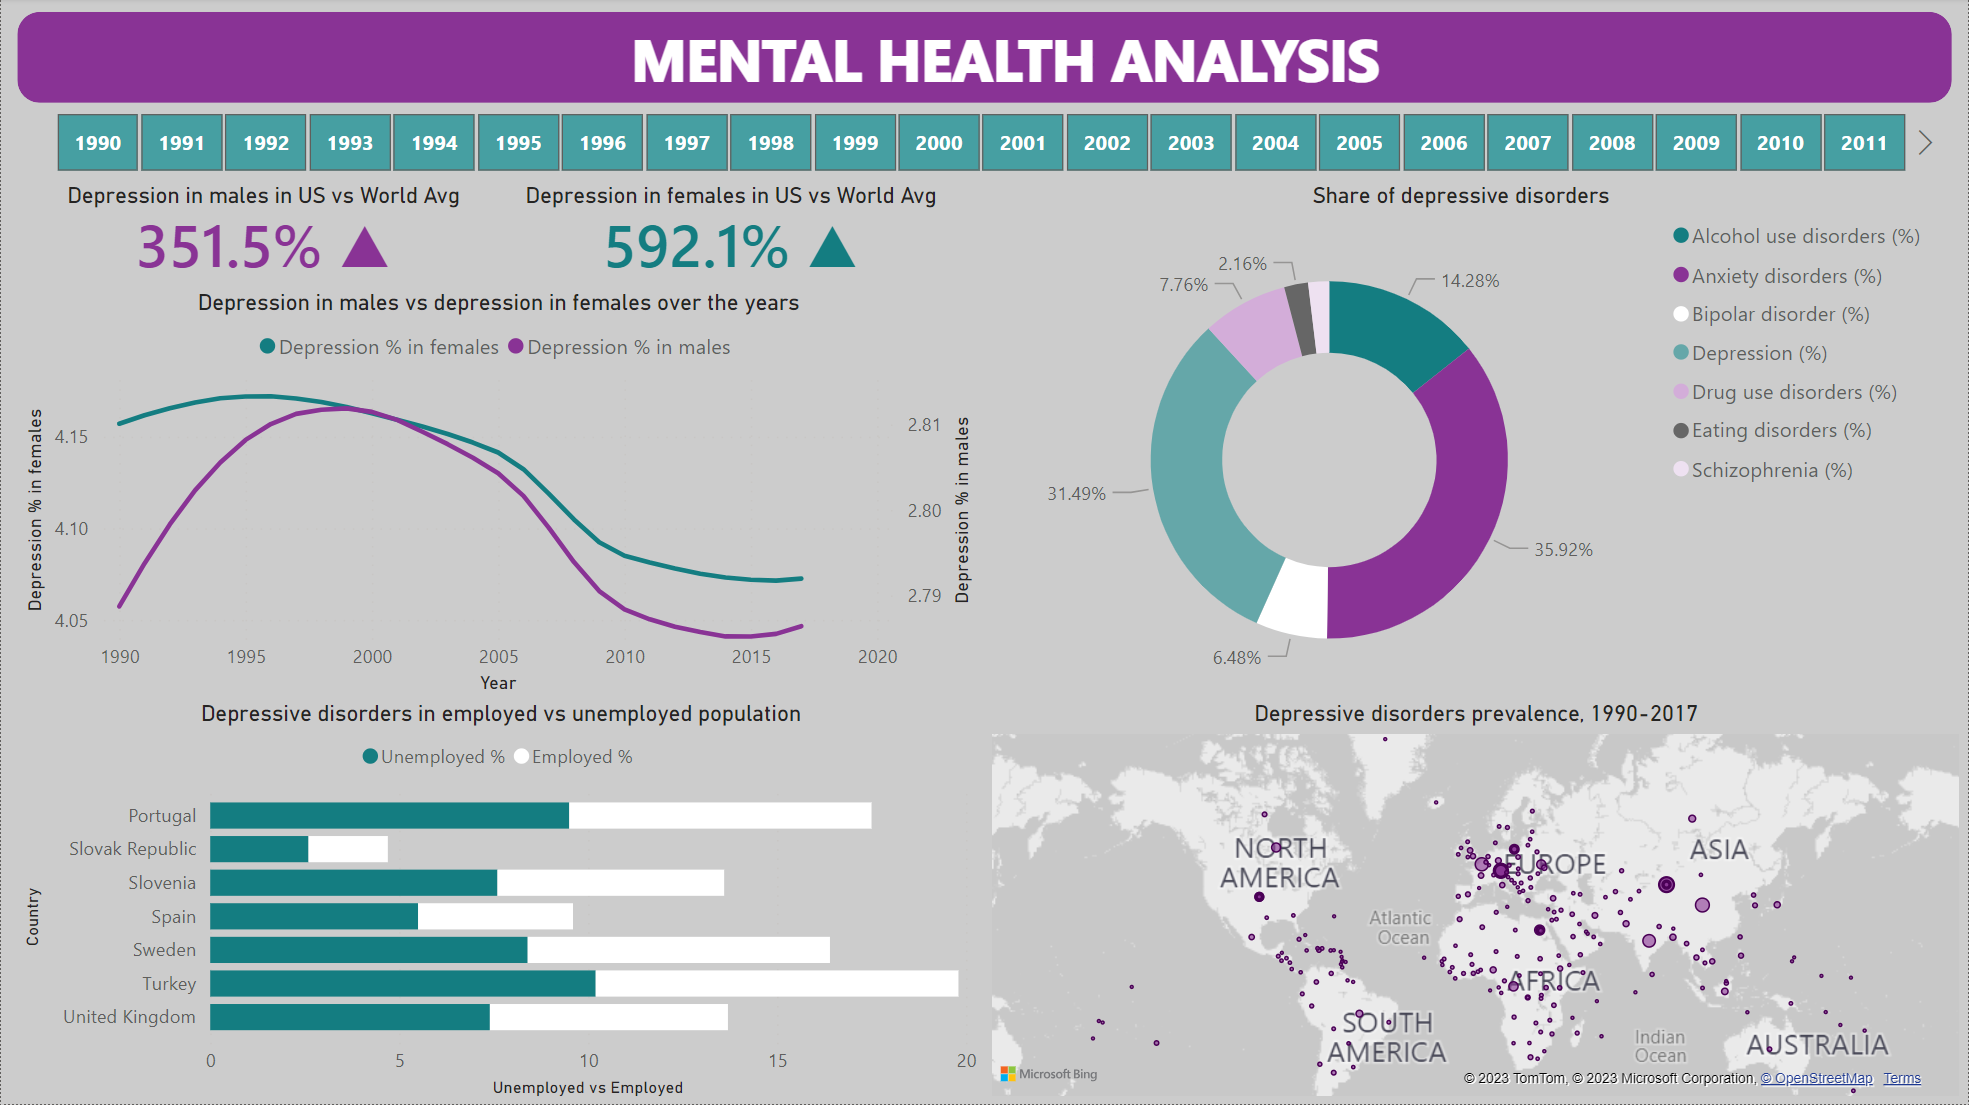

Layout of this report page (visuals, bound fields, positions):
{"tool":"powerbi","page":{"name":"Page 1","canvas":[1280,720],"ordinal":0},"visuals":[{"type":"lineChart","title":"Depression Rate in Males vs Depression Rate in Females, 1990-2017","fields":{"Category":["prevalence-of-depression-males-.Year"],"Y":["Avg(prevalence-of-depression-males-.Prevalence in females (%))"],"Y2":["Avg(prevalence-of-depression-males-.Prevalence in males (%))"]},"box":[10.6,189.6,626.4,267.7],"z":0},{"type":"barChart","title":"Depressive Disorders in Employed vs. Unemployed Populations","fields":{"Category":["depression-by-level-of-educatio.Entity"],"Y":["Sum(depression-by-level-of-educatio.All levels (active) (%))","Sum(depression-by-level-of-educatio.All levels (employed) (%))"]},"box":[10.6,457.2,629.7,262.8],"z":1000},{"type":"shape","box":[10.6,8.9,1259.1,59.3],"z":2000},{"type":"textbox","box":[231.1,8.9,845.6,59.3],"z":3000},{"type":"slicer","fields":{"Values":["Date.Year"]},"box":[10.6,68.2,1252.9,51.4],"z":4000},{"type":"card","title":"Depression in Males - US vs World Avg","fields":{"Values":["prevalence-of-depression-males-.US vs. All Countries Male Prevalence"]},"box":[0,119.6,341.7,64.3],"z":5000},{"type":"card","title":"Depression in Females - US vs World Avg","fields":{"Values":["prevalence-of-depression-males-.US vs. All Countries Female Prevalence"]},"box":[328.7,119.6,292.9,64.3],"z":6000},{"type":"donutChart","title":"Share of Depressive Disorders","fields":{"Y":["Sum(prevalence-by-mental-and-substa.Alcohol use disorders (%))","Sum(prevalence-by-mental-and-substa.Anxiety disorders (%))","Sum(prevalence-by-mental-and-substa.Bipolar disorder (%))","Sum(prevalence-by-mental-and-substa.Depression (%))","Sum(prevalence-by-mental-and-substa.Drug use disorders (%))","Sum(prevalence-by-mental-and-substa.Eating disorders (%))","Sum(prevalence-by-mental-and-substa.Schizophrenia (%))"]},"box":[637,119.6,632.9,345.8],"z":7000},{"type":"map","title":"Global Prevalence of Depressive Disorders, 1990-2017","fields":{"Category":["number-with-depression-by-count.Entity"],"Size":["Avg(number-with-depression-by-count.Prevalence - Depressive disorders - Sex: Both - Age: All Ages (Number) (peo"],"Series":["number-with-depression-by-count.Year"]},"box":[640.3,457.2,639.5,262.8],"z":8000}]}

Visuals, with their boxes in screenshot pixels (x1, y1, x2, y2), scaled from the page's 1280x720 canvas onto the 1969x1105 screenshot:
"Depression Rate in Males vs Depression Rate in Females, 1990-2017" lineChart: (16,291,980,702)
"Depressive Disorders in Employed vs. Unemployed Populations" barChart: (16,702,985,1104)
shape: (16,14,1953,105)
textbox: (355,14,1656,105)
slicer - Date.Year: (16,105,1944,184)
"Depression in Males - US vs World Avg" card: (0,184,526,282)
"Depression in Females - US vs World Avg" card: (506,184,956,282)
"Share of Depressive Disorders" donutChart: (980,184,1953,714)
"Global Prevalence of Depressive Disorders, 1990-2017" map: (985,702,1968,1104)
